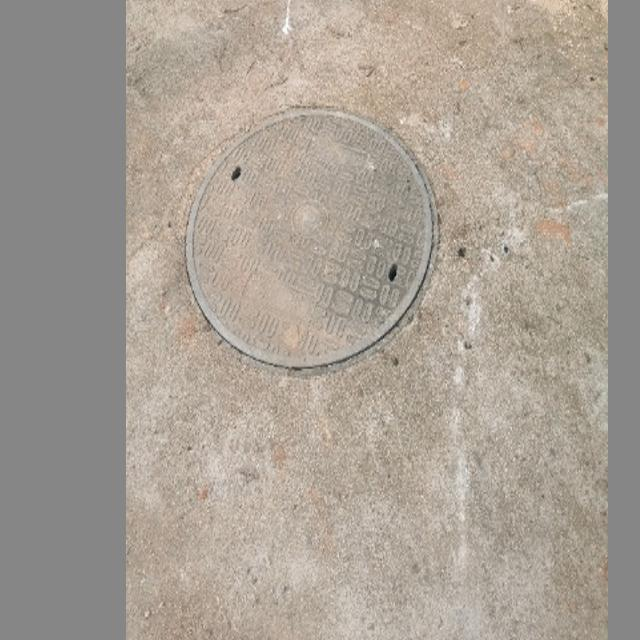good: (184, 107, 439, 374)
